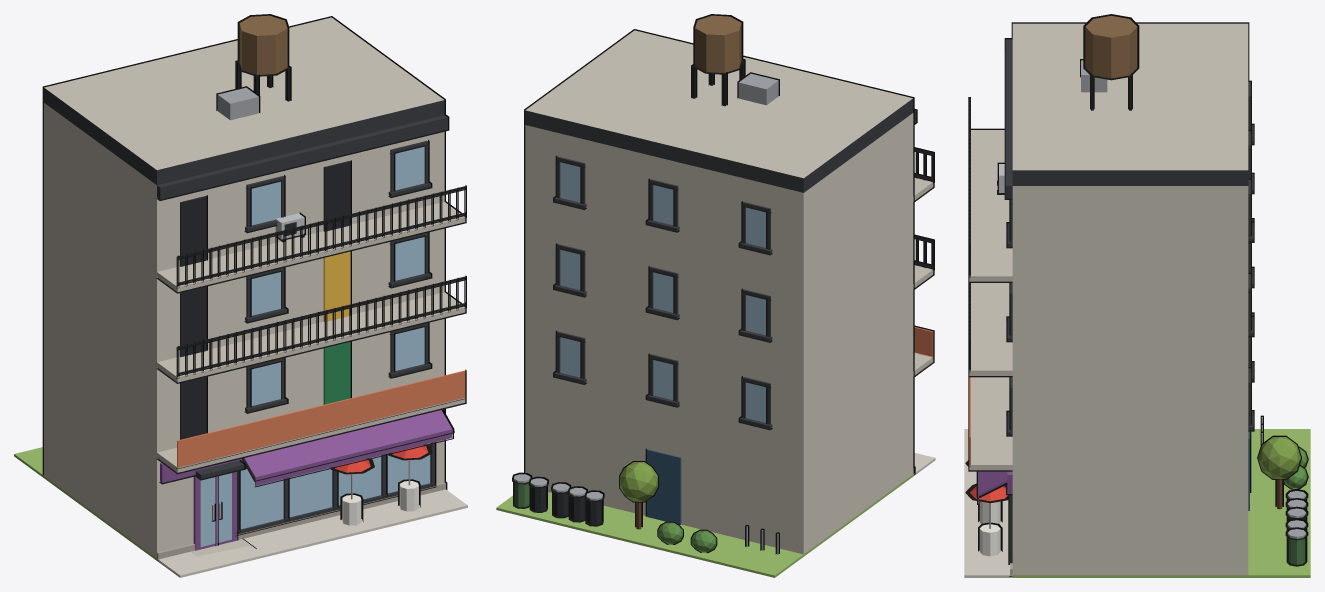
The model's file is Blok_duz_4k_7.fbx.
The picture shows the model from 3 angles, left to right: view 1: azimuth 30°, elevation 25°; view 2: azimuth 150°, elevation 25°; view 3: azimuth 270°, elevation 25°; orthographic projection. The views are drawn at different scales.
Visible parts, largest first — view 1: Blok_duz_4k_7; view 2: Blok_duz_4k_7; view 3: Blok_duz_4k_7.
Part boxes in pixels (bbox=[...]): Blok_duz_4k_7: bbox=[14, 14, 467, 577]; Blok_duz_4k_7: bbox=[496, 14, 935, 577]; Blok_duz_4k_7: bbox=[964, 14, 1310, 577].
Bounding box in the file's own units: 10.09 × 15.48 × 10.
